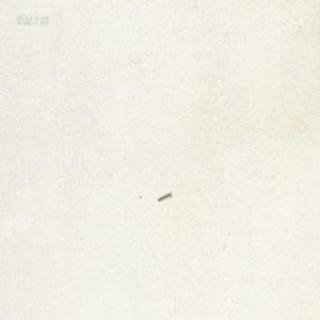Bolttrack_idkeyframe: (156, 190, 170, 200)
